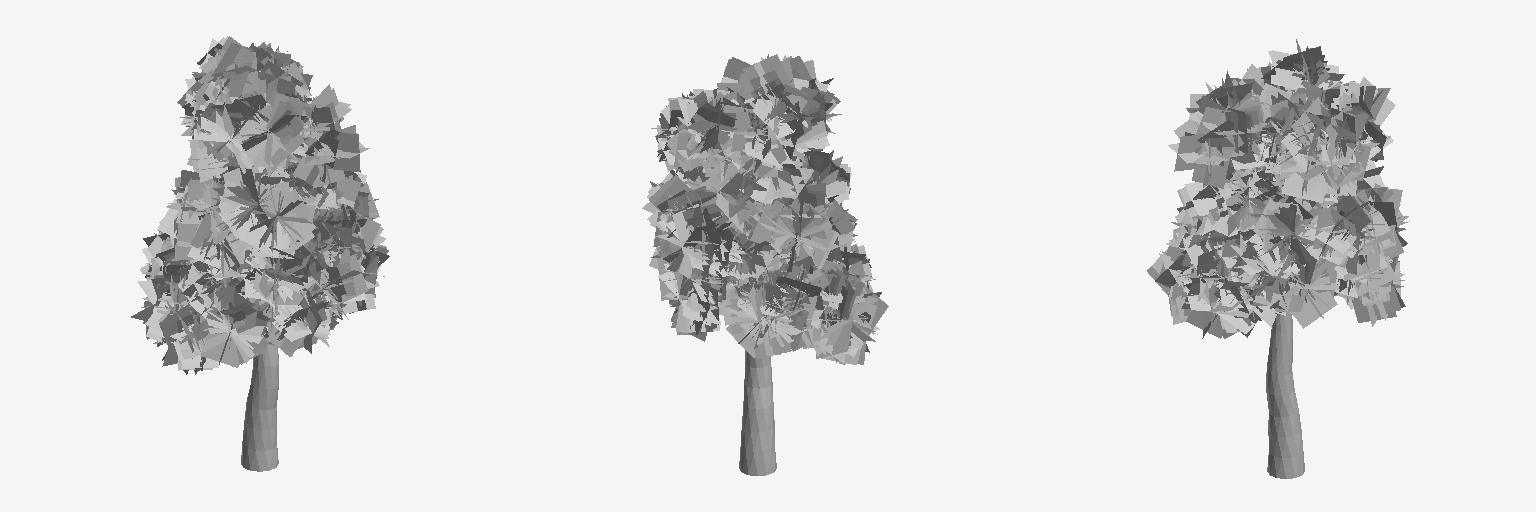
Rendered from tree_4.obj.
3 views of the same model, side by side, from view 1: azimuth 30°, elevation 25°; view 2: azimuth 150°, elevation 25°; view 3: azimuth 270°, elevation 25° (orthographic).
Parts seen in each view (by area): view 1: Mesh_1.004, Mesh_0.004; view 2: Mesh_1.004, Mesh_0.004; view 3: Mesh_1.004, Mesh_0.004.
Part boxes in pixels (left/top/right/bottom): Mesh_1.004: left=131, top=36, right=389, bottom=374; Mesh_0.004: left=241, top=322, right=278, bottom=471; Mesh_1.004: left=642, top=54, right=888, bottom=364; Mesh_0.004: left=739, top=202, right=776, bottom=475; Mesh_1.004: left=1147, top=39, right=1409, bottom=338; Mesh_0.004: left=1266, top=312, right=1304, bottom=478.
Bounding box in the file's own units: 39.77 × 73.81 × 42.21.